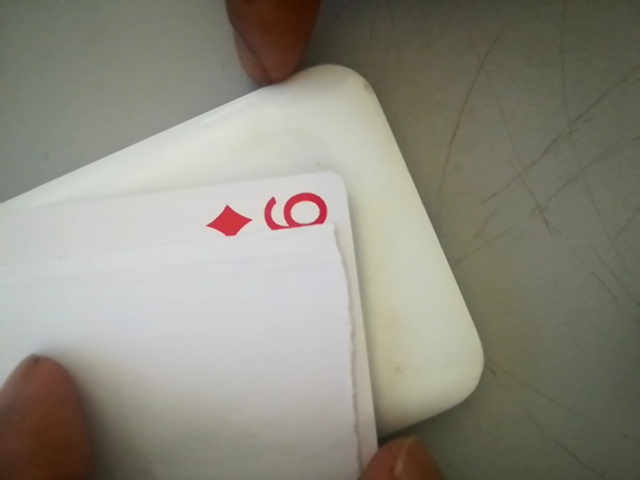fk 9: (236, 189, 336, 238)
